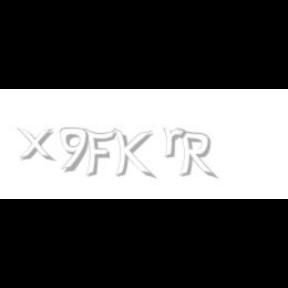9: (60, 128, 88, 172)
F: (84, 128, 116, 178)
K: (113, 128, 153, 180)
R: (177, 128, 215, 180)
r: (162, 128, 190, 158)
x: (17, 128, 59, 162)
